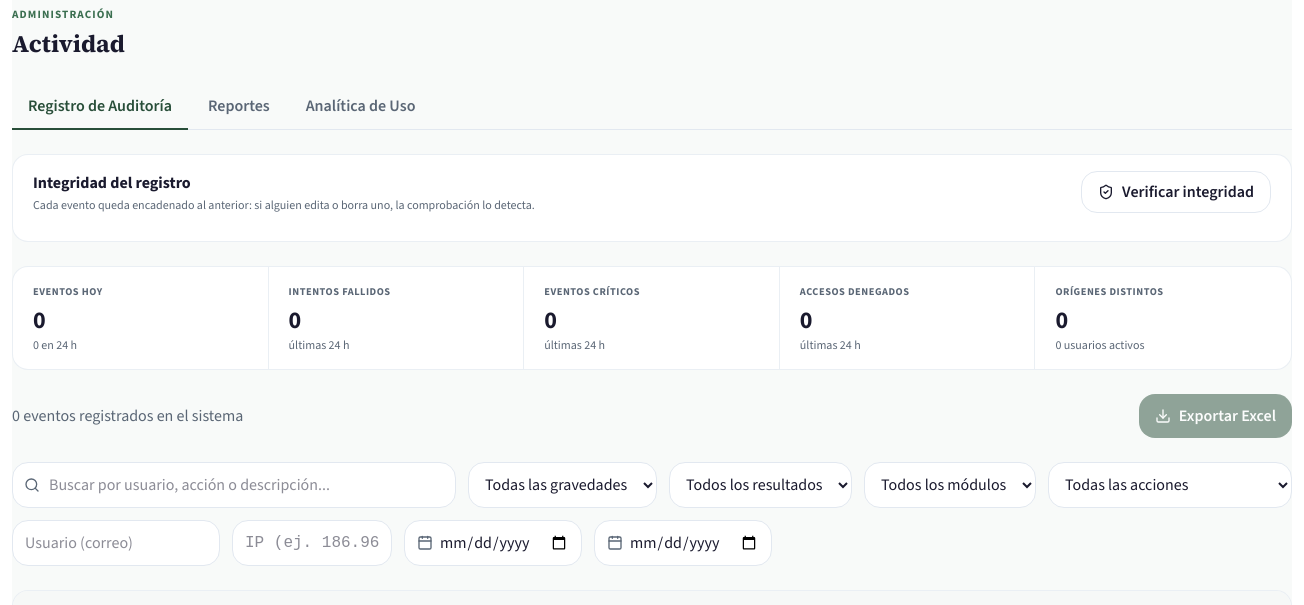
Actividad — pestañas (super_admin ve las 3) › cambiar a Analítica de Uso muestra sus KPIs
Click the button "Analítica de Uso".
click(361, 107)  # box [290, 84, 431, 130]
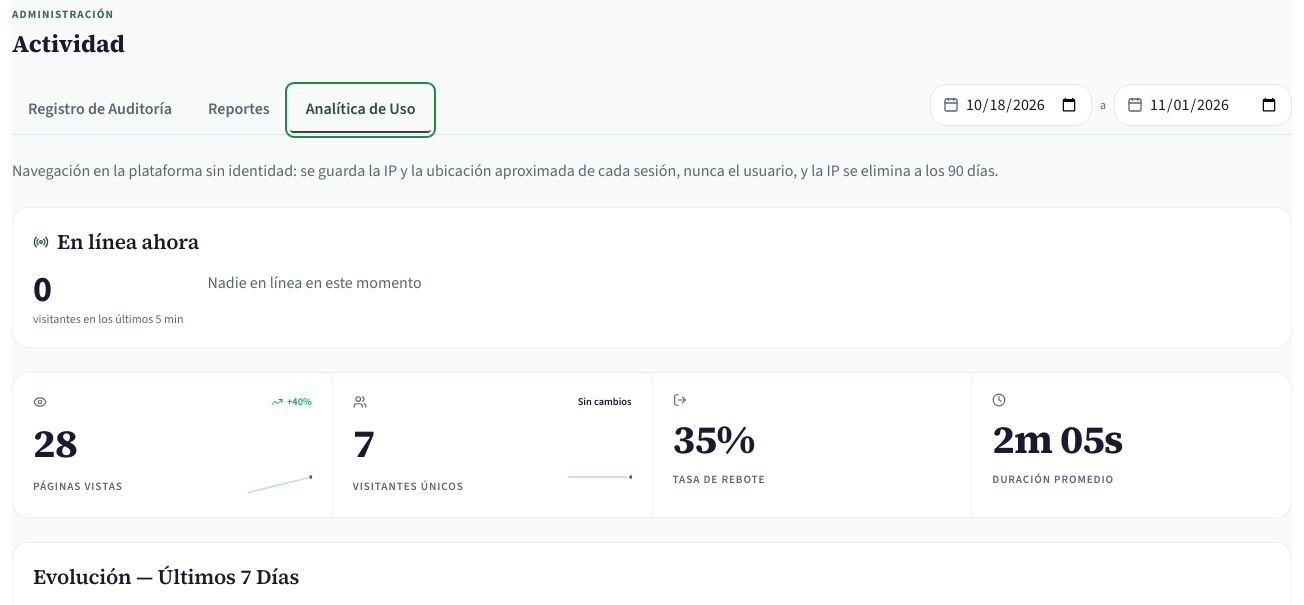
Check: the text "Páginas Vistas" is shown, box [33, 478, 123, 497]
Check: the text "35%" is shown, box [672, 412, 754, 466]
